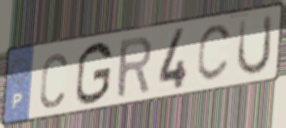4: (156, 26, 190, 94)
C: (195, 21, 235, 84), (38, 51, 69, 111)
G: (74, 40, 114, 107)
R: (116, 33, 154, 101)
U: (235, 12, 275, 78)
